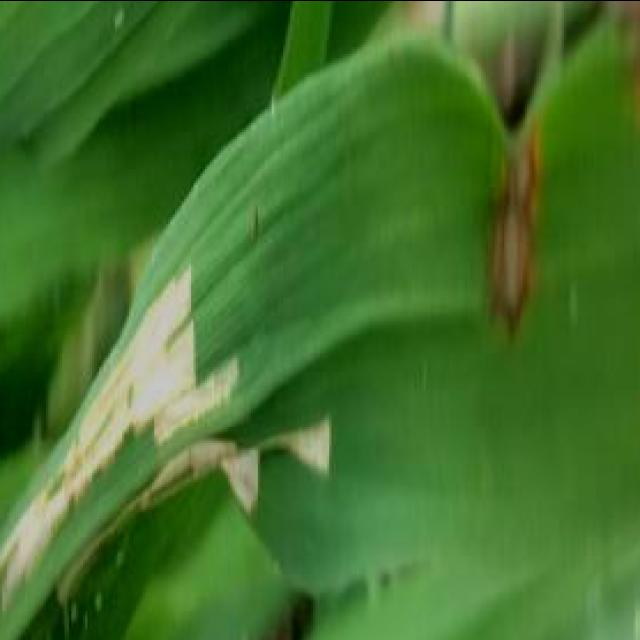Leaf_Blast: (479, 80, 564, 338)
